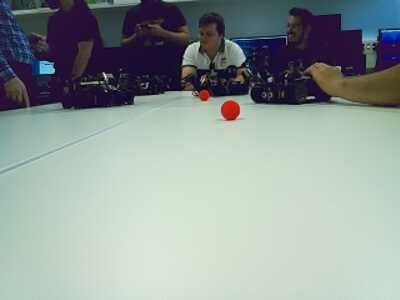bola_cerca: (220, 101, 239, 121), (200, 89, 210, 99)
hexapodo_ajeno: (61, 75, 139, 110)
